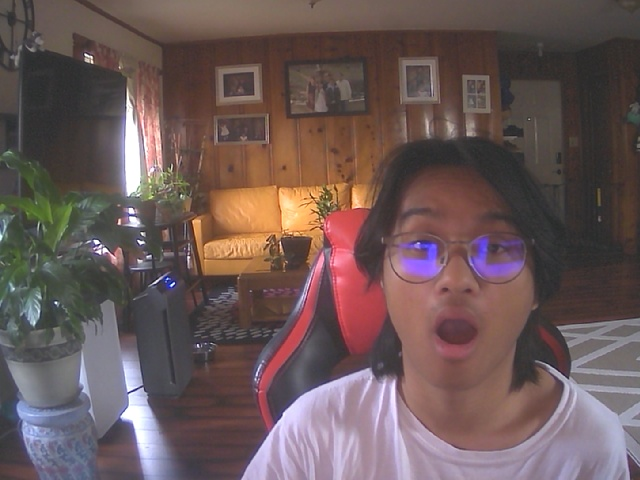fear: (372, 148, 546, 388)
